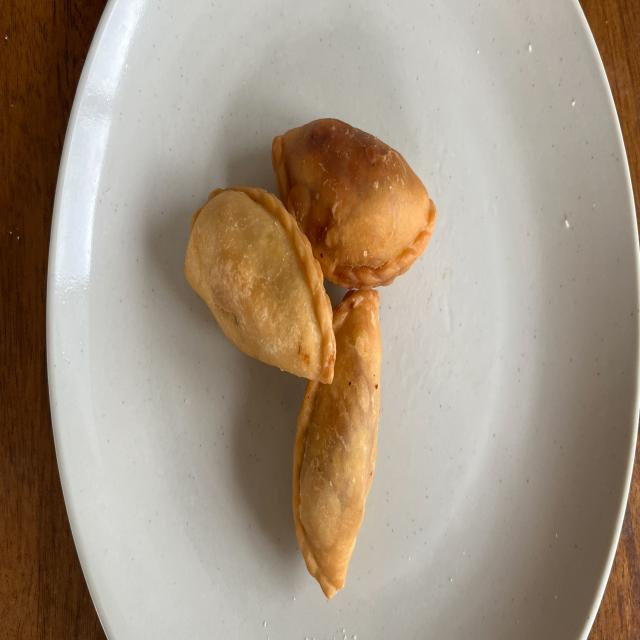karipap: (184, 187, 336, 382), (271, 118, 436, 289), (292, 289, 381, 600)
